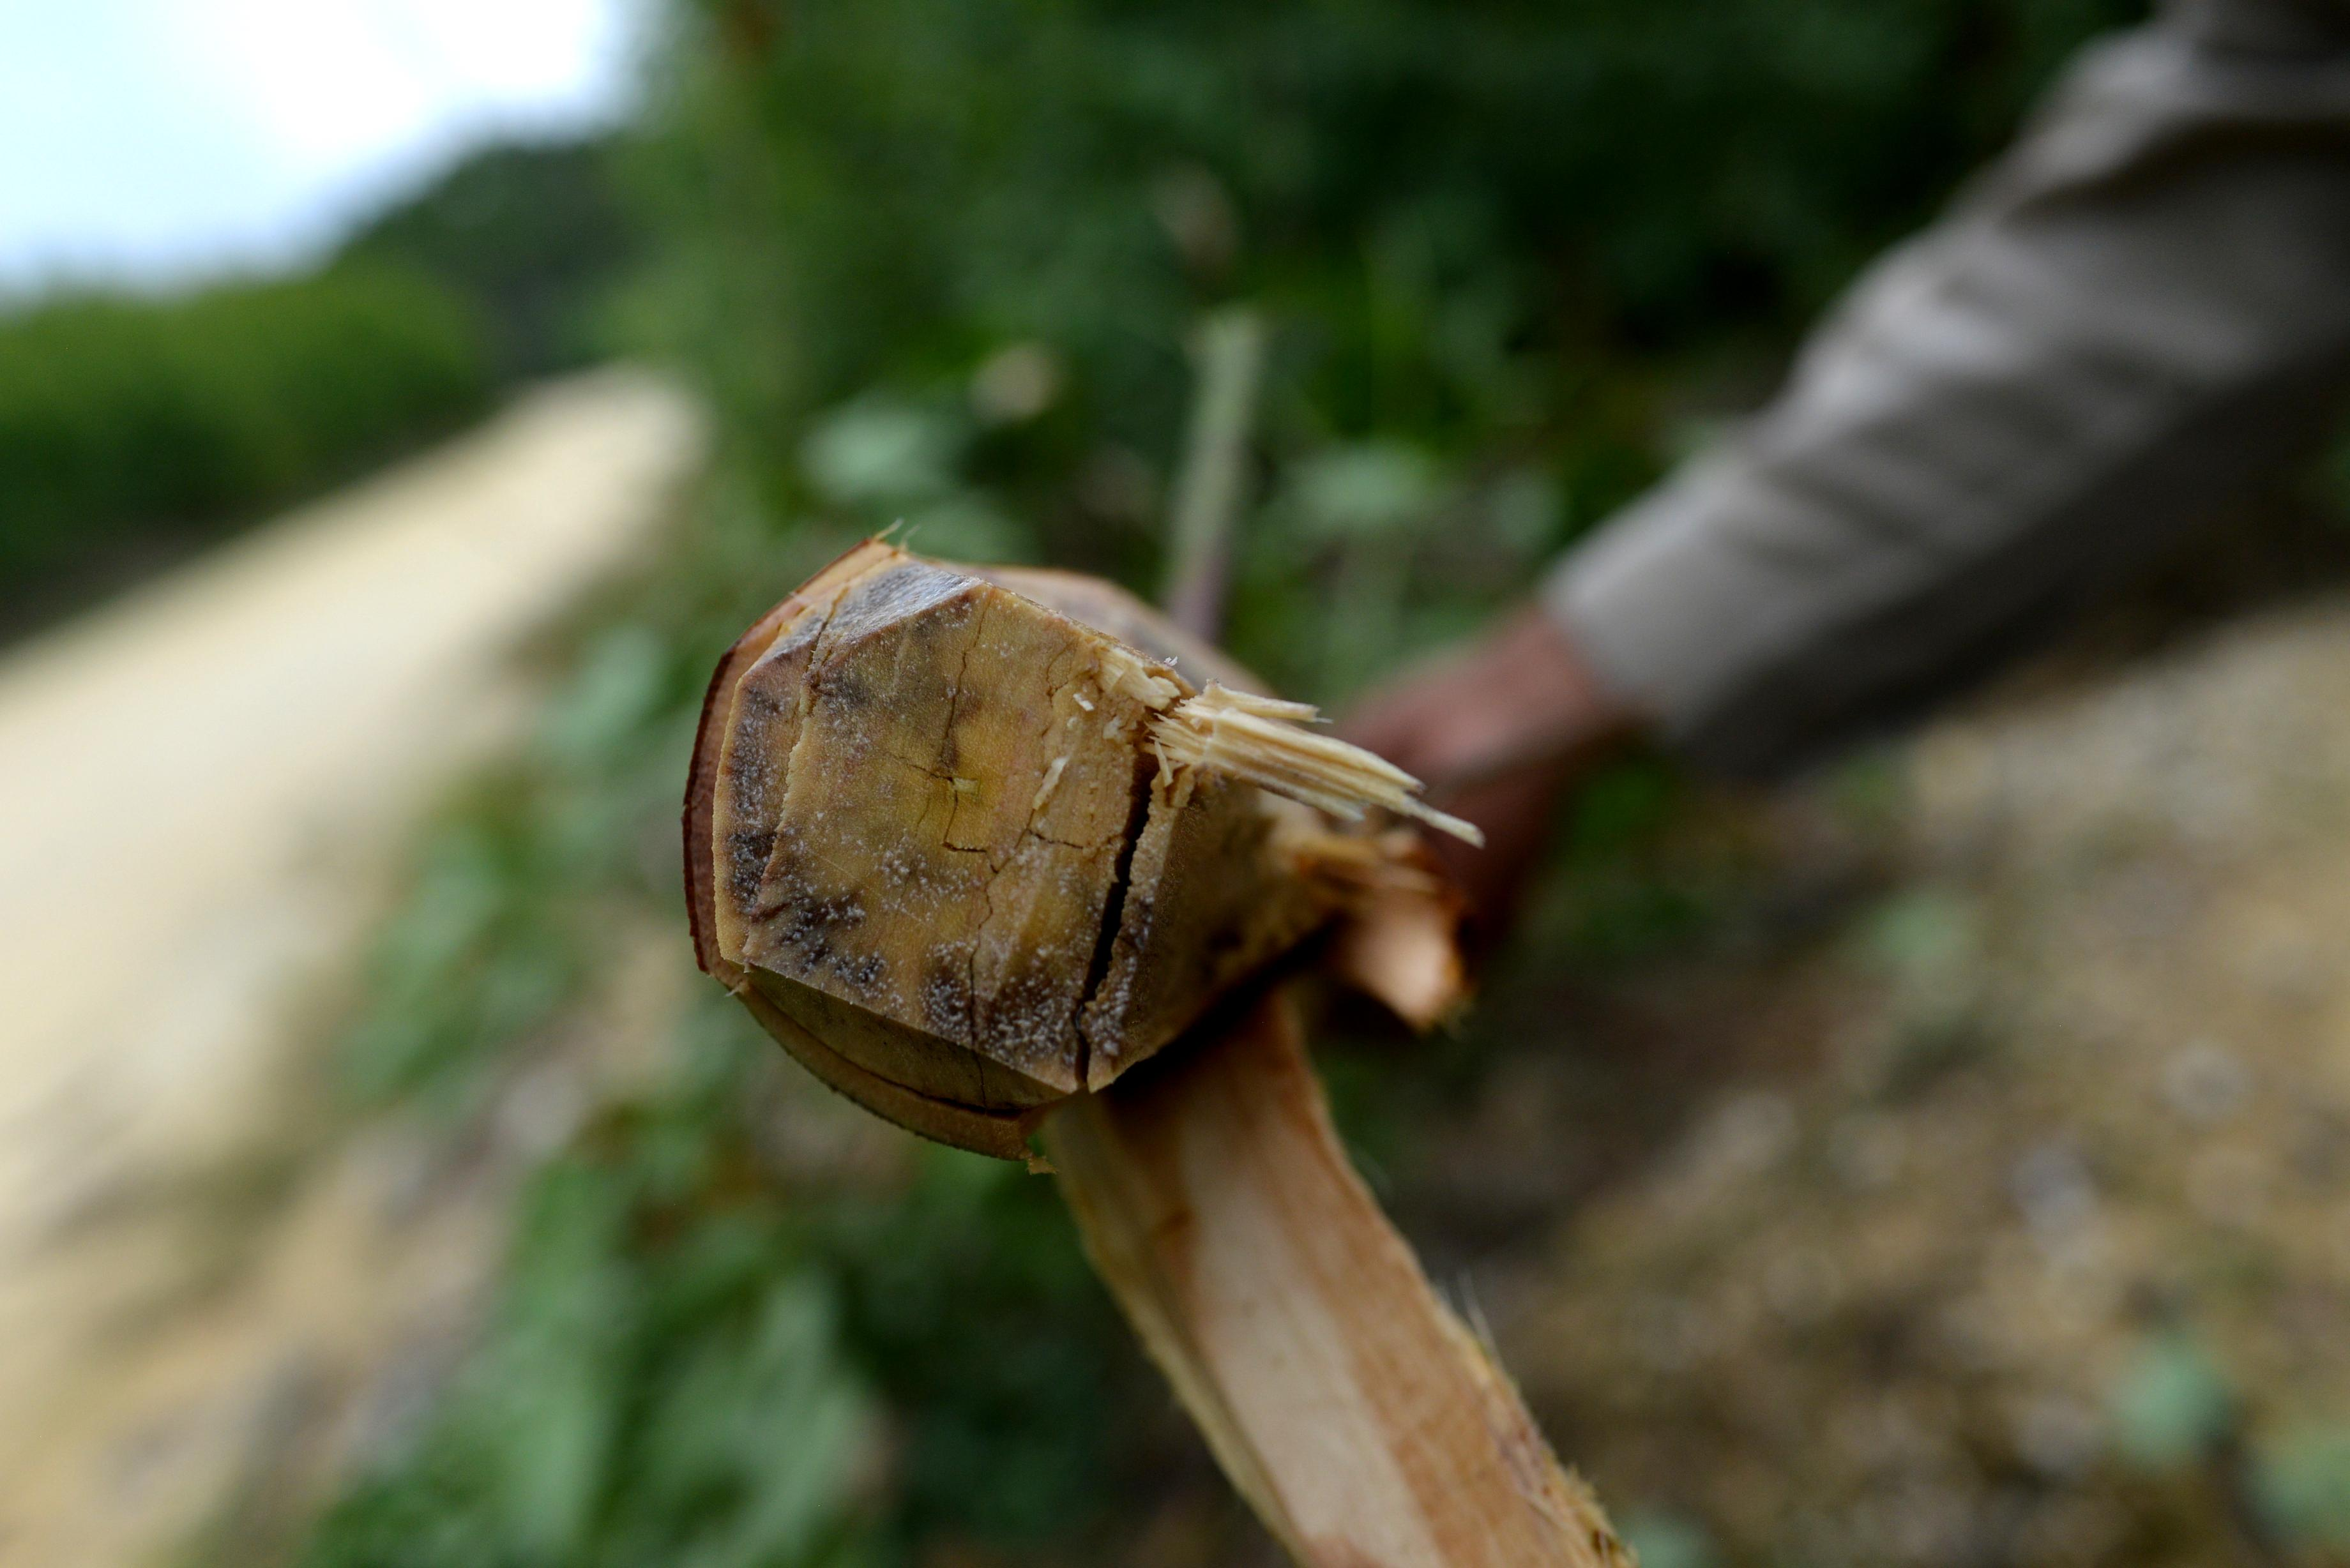Ralstonia: (687, 755, 911, 1032), (929, 845, 1166, 1099), (735, 531, 990, 735)
